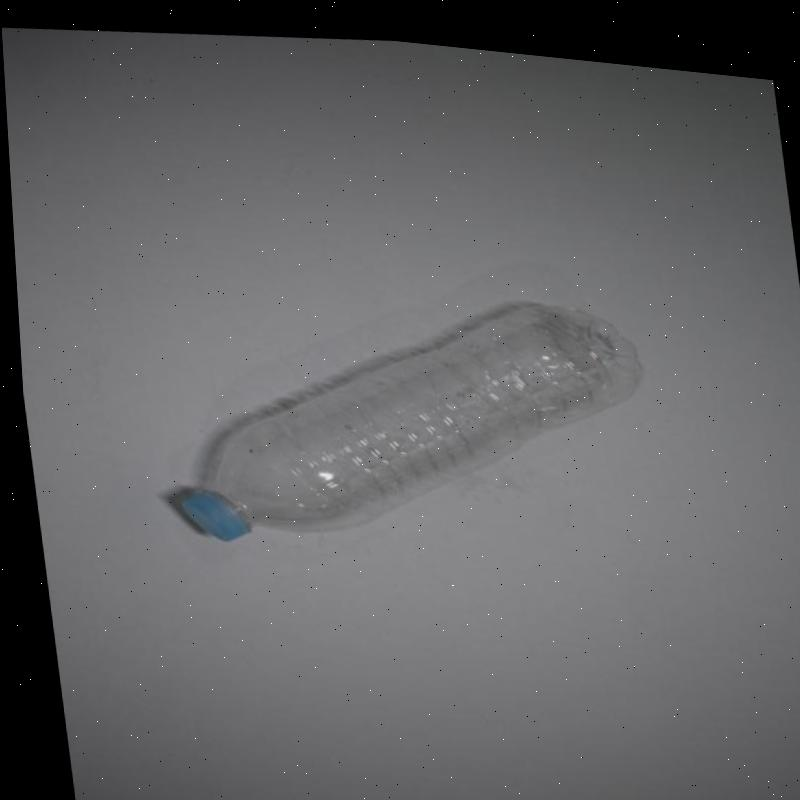botella: (149, 255, 660, 579)
